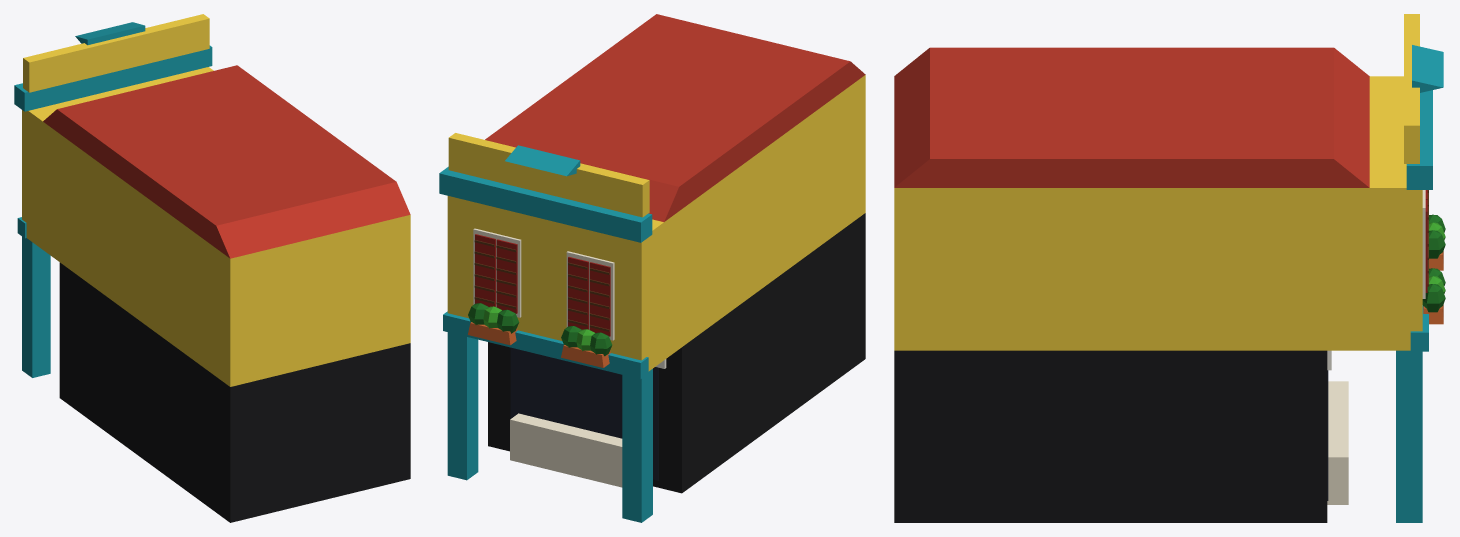
File: env_chowkit_shop_a.fbx
3 renders of one model, left to right at view 1: azimuth 30°, elevation 25°; view 2: azimuth 150°, elevation 25°; view 3: azimuth 270°, elevation 25°, orthographic. The views are drawn at different scales.
Parts seen in each view (by area): view 1: env_chowkit_shop_a_geo_LOD0, COL_env_chowkit_shop_a; view 2: env_chowkit_shop_a_geo_LOD0, COL_env_chowkit_shop_a; view 3: env_chowkit_shop_a_geo_LOD0, COL_env_chowkit_shop_a.
Part boxes in pixels (<box>): env_chowkit_shop_a_geo_LOD0: <box>14,14,410,386</box>; COL_env_chowkit_shop_a: <box>59,262,410,522</box>; env_chowkit_shop_a_geo_LOD0: <box>439,14,865,522</box>; COL_env_chowkit_shop_a: <box>488,213,865,493</box>; env_chowkit_shop_a_geo_LOD0: <box>894,14,1445,522</box>; COL_env_chowkit_shop_a: <box>894,350,1327,522</box>.
Size of what is drawn, in the model's own units: 5.2 by 8.45 by 10.44.
